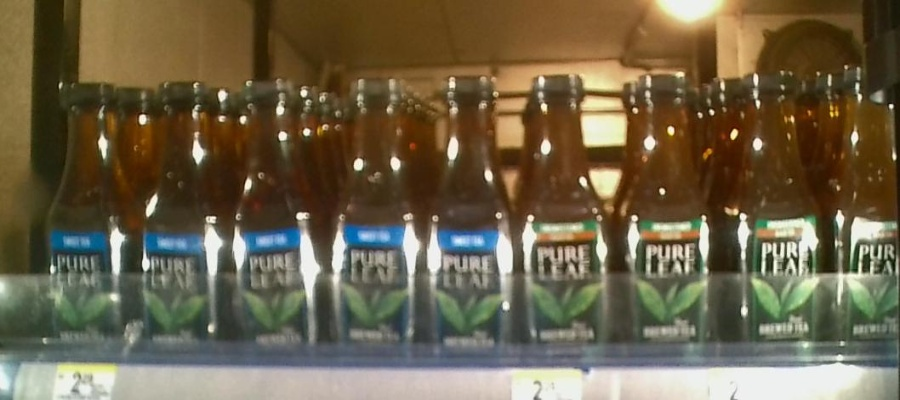bottle: (715, 71, 823, 364), (616, 69, 715, 364), (425, 67, 517, 365), (227, 70, 322, 358), (328, 65, 422, 354), (521, 74, 612, 365), (141, 68, 225, 354), (48, 74, 136, 346), (834, 59, 900, 362)
